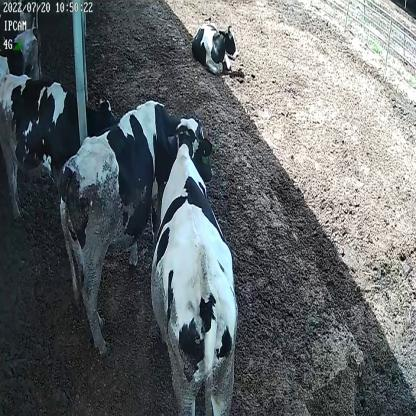cow: (57, 98, 217, 360), (149, 116, 239, 413), (0, 70, 117, 230), (191, 18, 241, 77)
